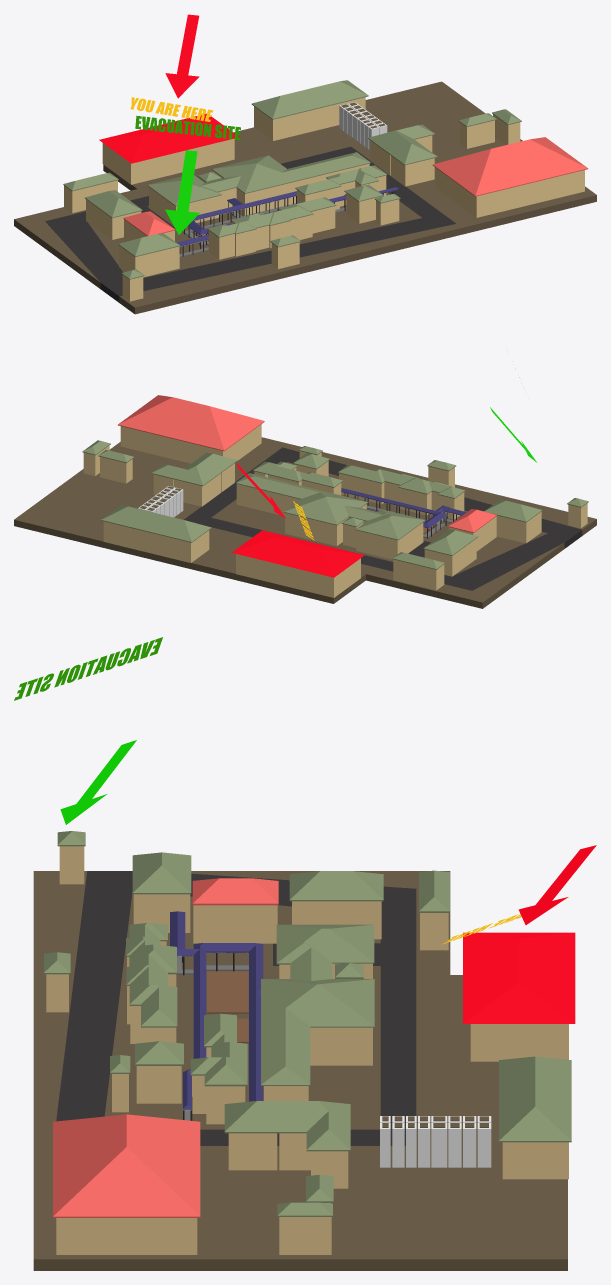
File: ITALIANBUILDING.glb
3 views of the same model, one above another, from view 1: azimuth 30°, elevation 25°; view 2: azimuth 150°, elevation 25°; view 3: azimuth 270°, elevation 25° (orthographic). The views are drawn at different scales.
Visible parts, largest first — view 1: Toposolid Grassland - 1200mm [352516], Toposolid Grassland - 1200mm [354195], Basic Roof Generic - 125mm [387914], Basic Roof Generic - 125mm [384035], Basic Roof Generic - 125mm [378573], Basic Wall Generic - 200mm [355787], Toposolid Grassland - 1200mm [354195].001, Basic Roof Generic - 125mm [385592], Basic Wall Generic - 200mm [355672], Basic Roof Generic - 125mm [385698], Basic Roof Generic - 125mm [387351], Basic Wall Generic - 200mm [355773] (+29 smaller); view 2: Toposolid Grassland - 1200mm [352516], Toposolid Grassland - 1200mm [354195], Basic Roof Generic - 125mm [387914], Basic Roof Generic - 125mm [384035], Basic Roof Generic - 125mm [378573], Basic Wall Generic - 200mm [355757], Basic Roof Generic - 125mm [385592], Basic Wall Generic - 200mm [355771], Basic Wall Generic - 200mm [355789], Basic Roof Generic - 125mm [385698], Basic Roof Generic - 125mm [387351], Basic Wall Generic - 200mm [357221] (+24 smaller); view 3: Toposolid Grassland - 1200mm [352516], Toposolid Grassland - 1200mm [354195], Basic Roof Generic - 125mm [387914], Basic Roof Generic - 125mm [384035], Basic Roof Generic - 125mm [378573], Toposolid Grassland - 1200mm [354195].001, Basic Roof Generic - 125mm [385592], Basic Wall Generic - 200mm [355788], Basic Roof Generic - 125mm [389243], Basic Roof Generic - 125mm [387351], Basic Roof Generic - 125mm [385698], Basic Wall Generic - 200mm [355719] (+26 smaller).
Part boxes in pixels (x1,y1,x2,y2): Toposolid Grassland - 1200mm [352516]: [14, 81, 596, 314]; Toposolid Grassland - 1200mm [354195]: [45, 146, 456, 302]; Basic Roof Generic - 125mm [387914]: [432, 137, 588, 196]; Basic Roof Generic - 125mm [384035]: [147, 152, 370, 206]; Basic Roof Generic - 125mm [378573]: [99, 113, 239, 163]; Basic Wall Generic - 200mm [355787]: [477, 170, 584, 217]; Toposolid Grassland - 1200mm [354195].001: [120, 218, 454, 294]; Basic Roof Generic - 125mm [385592]: [251, 80, 368, 119]; Basic Wall Generic - 200mm [355672]: [132, 138, 234, 184]; Basic Roof Generic - 125mm [385698]: [207, 197, 336, 237]; Basic Roof Generic - 125mm [387351]: [368, 124, 437, 165]; Basic Wall Generic - 200mm [355773]: [274, 97, 365, 140]; Toposolid Grassland - 1200mm [352516]: [14, 437, 596, 608]; Toposolid Grassland - 1200mm [354195]: [184, 447, 582, 590]; Basic Roof Generic - 125mm [387914]: [118, 395, 264, 451]; Basic Roof Generic - 125mm [384035]: [236, 473, 425, 540]; Basic Roof Generic - 125mm [378573]: [232, 530, 364, 577]; Basic Wall Generic - 200mm [355757]: [237, 554, 332, 597]; Basic Roof Generic - 125mm [385592]: [101, 505, 211, 542]; Basic Wall Generic - 200mm [355771]: [104, 521, 191, 562]; Basic Wall Generic - 200mm [355789]: [121, 426, 223, 463]; Basic Roof Generic - 125mm [385698]: [338, 465, 465, 498]; Basic Roof Generic - 125mm [387351]: [151, 452, 237, 486]; Basic Wall Generic - 200mm [357221]: [236, 484, 300, 516]; Toposolid Grassland - 1200mm [352516]: [33, 871, 567, 1270]; Toposolid Grassland - 1200mm [354195]: [57, 871, 416, 1145]; Basic Roof Generic - 125mm [387914]: [53, 1114, 200, 1217]; Basic Roof Generic - 125mm [384035]: [261, 924, 374, 1085]; Basic Roof Generic - 125mm [378573]: [463, 932, 575, 1023]; Toposolid Grassland - 1200mm [354195].001: [56, 872, 131, 1121]; Basic Roof Generic - 125mm [385592]: [499, 1056, 571, 1142]; Basic Wall Generic - 200mm [355788]: [58, 1218, 197, 1254]; Basic Roof Generic - 125mm [389243]: [170, 911, 263, 1109]; Basic Roof Generic - 125mm [387351]: [224, 1101, 350, 1151]; Basic Roof Generic - 125mm [385698]: [126, 923, 177, 1027]; Basic Wall Generic - 200mm [355719]: [473, 1024, 568, 1061].
Bounding box in the file's own units: 86 × 29.38 × 54.57.
